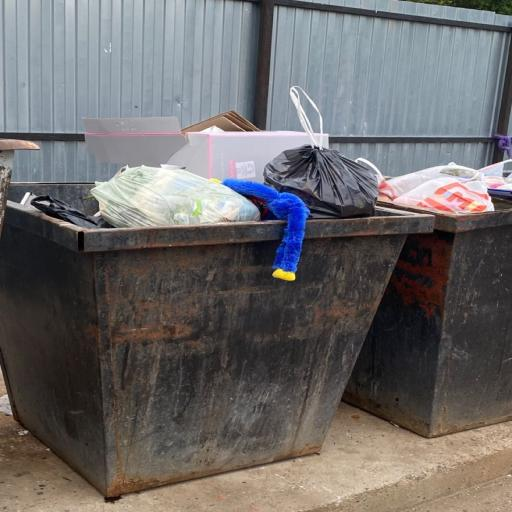ramp: (0, 129, 429, 503), (363, 148, 512, 442)
